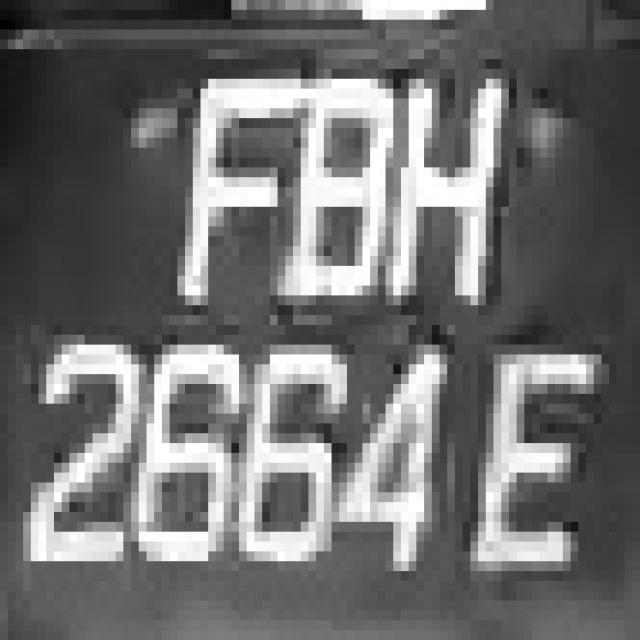2: (31, 296, 154, 610)
4: (339, 305, 455, 571)
6: (224, 295, 339, 591), (116, 315, 231, 591)
B: (278, 59, 386, 335)
E: (478, 295, 609, 591)
F: (170, 49, 285, 315)
H: (370, 49, 509, 305)
